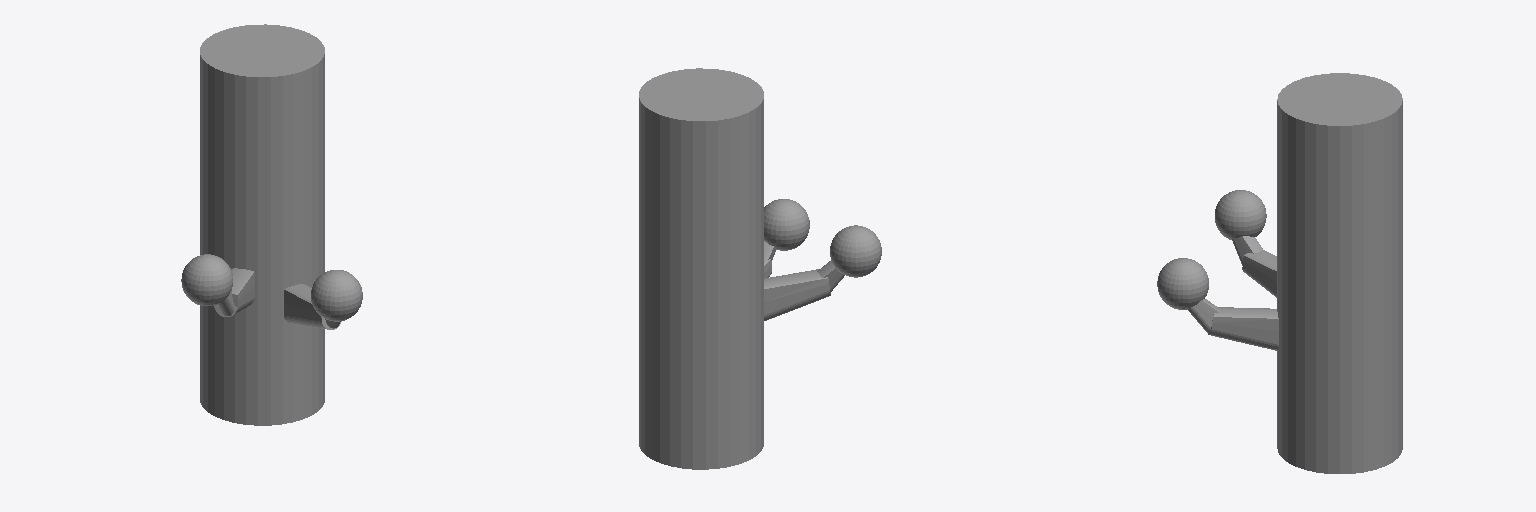
The model's file is ClimbingTree.obj.
The picture shows the model from 3 angles: view 1: azimuth 30°, elevation 25°; view 2: azimuth 150°, elevation 25°; view 3: azimuth 270°, elevation 25°; orthographic projection.
Parts seen in each view (by area): view 1: Cylinder, Sphere, Sphere.001, Cylinder.001, Cylinder.004; view 2: Cylinder, Cylinder.004, Sphere.001, Sphere; view 3: Cylinder, Cylinder.001, Sphere, Sphere.001, Cylinder.004, Cylinder.002.
Boxes of the visible parts, x1=… form: Cylinder: x1=200, y1=24, x2=324, y2=425; Sphere: x1=311, y1=270, x2=362, y2=321; Sphere.001: x1=181, y1=254, x2=232, y2=305; Cylinder.001: x1=284, y1=284, x2=341, y2=329; Cylinder.004: x1=214, y1=268, x2=254, y2=316; Cylinder: x1=639, y1=68, x2=763, y2=469; Cylinder.004: x1=764, y1=269, x2=830, y2=320; Sphere.001: x1=830, y1=225, x2=881, y2=277; Sphere: x1=764, y1=199, x2=809, y2=250; Cylinder: x1=1277, y1=73, x2=1402, y2=473; Cylinder.001: x1=1208, y1=307, x2=1278, y2=350; Sphere: x1=1157, y1=258, x2=1208, y2=309; Sphere.001: x1=1215, y1=190, x2=1266, y2=239; Cylinder.004: x1=1242, y1=250, x2=1276, y2=297; Cylinder.002: x1=1187, y1=299, x2=1219, y2=333.
Bounding box in the file's own units: 8.03 × 14.71 × 9.4.